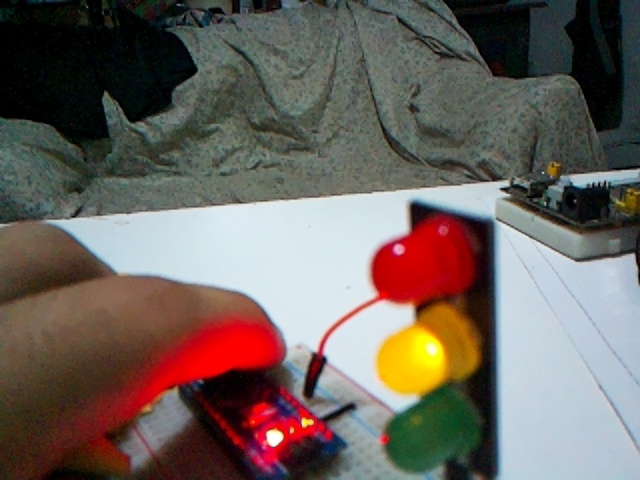traffic_light_yellow: (377, 205, 492, 479)
